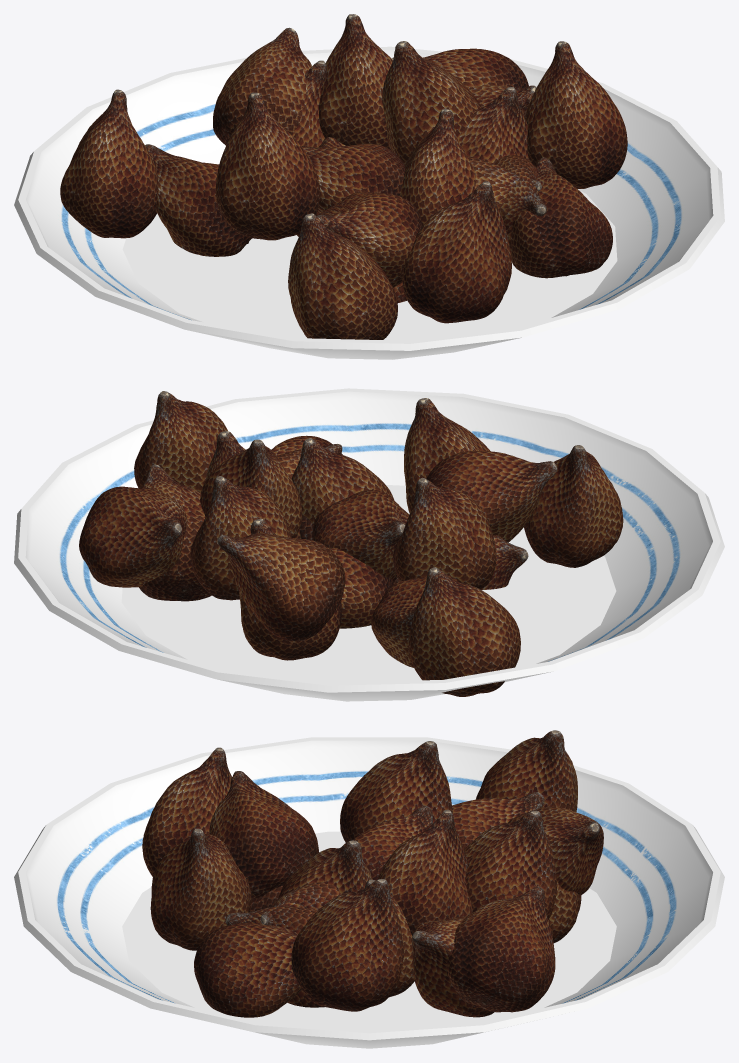
Rendered from Salak.fbx.
3 renders of one model, top to bottom at view 1: azimuth 30°, elevation 25°; view 2: azimuth 150°, elevation 25°; view 3: azimuth 270°, elevation 25°, orthographic.
Visible parts, largest first — view 1: Prato, ssf_body, ssf_body.017, ssf_body.021, ssf_body.011, ssf_body.010, ssf_body.003, ssf_body.016, ssf_body.018, ssf_body.009, ssf_body.015, ssf_body.020 (+8 smaller); view 2: Prato, ssf_body.015, ssf_body.010, ssf_body.014, ssf_body.021, ssf_body.017, ssf_body.020, ssf_body.011, ssf_body.016, ssf_body.013, ssf_body.007, ssf_body (+9 smaller); view 3: Prato, ssf_body.011, ssf_body.014, ssf_body, ssf_body.003, ssf_body.020, ssf_body.018, ssf_body.016, ssf_body.017, ssf_body.021, ssf_body.010, ssf_body.015 (+8 smaller).
Part boxes in pixels (x1,y1,x2,y2): Prato: (14,46,724,359); ssf_body: (402,181,511,323); ssf_body.017: (215,92,320,240); ssf_body.021: (288,213,397,339); ssf_body.011: (525,41,627,188); ssf_body.010: (60,89,158,238); ssf_body.003: (510,157,612,278); ssf_body.016: (319,14,392,149); ssf_body.018: (382,41,481,164); ssf_body.009: (145,144,251,256); ssf_body.015: (213,27,311,145); ssf_body.020: (317,191,422,287); Prato: (14,388,724,701); ssf_body.015: (217,533,345,641); ssf_body.010: (408,567,520,696); ssf_body.014: (79,486,187,587); ssf_body.021: (524,445,623,567); ssf_body.017: (392,477,496,589); ssf_body.020: (426,451,557,542); ssf_body.011: (134,391,227,492); ssf_body.016: (190,476,291,600); ssf_body.013: (312,489,409,581); ssf_body.007: (291,438,393,524); ssf_body: (404,398,490,513); Prato: (14,737,724,1048); ssf_body.011: (291,879,403,1011); ssf_body.014: (446,886,555,1012); ssf_body: (150,828,251,950); ssf_body.003: (194,923,301,1017); ssf_body.020: (209,771,318,899); ssf_body.018: (378,809,472,935); ssf_body.016: (464,810,557,919); ssf_body.017: (340,741,452,842); ssf_body.021: (142,747,232,876); ssf_body.010: (476,730,577,811); ssf_body.015: (508,806,603,894).
Bounding box in the file's own units: 150 × 50.14 × 151.
2 materials, 2 textured.
